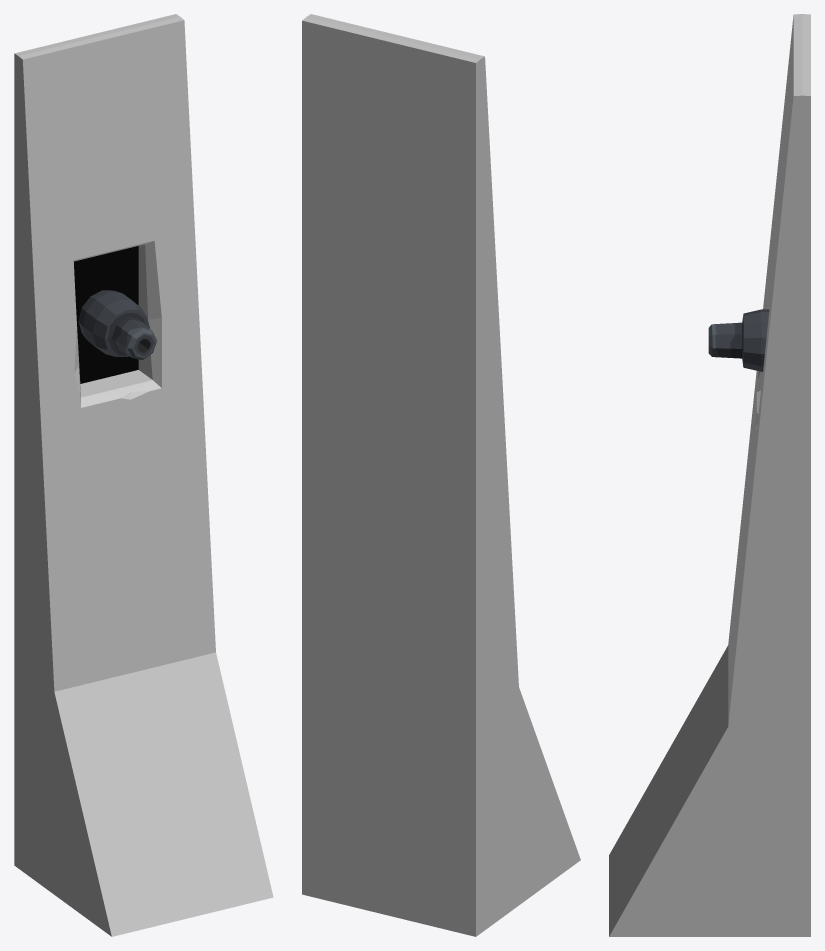
Rendered from SM_Bld_Wall_Fort_L_02_Alt_01.fbx.
3 renders of one model, left to right at view 1: azimuth 30°, elevation 25°; view 2: azimuth 150°, elevation 25°; view 3: azimuth 270°, elevation 25°, orthographic. The views are drawn at different scales.
Visible parts, largest first — view 1: SM_Bld_Wall_Fort_L_02_Alt_01, SM_Bld_Wall_Fort_L_02_Alt_01_Cannon; view 2: SM_Bld_Wall_Fort_L_02_Alt_01; view 3: SM_Bld_Wall_Fort_L_02_Alt_01, SM_Bld_Wall_Fort_L_02_Alt_01_Cannon.
Part boxes in pixels (x1,y1,x2,y2): SM_Bld_Wall_Fort_L_02_Alt_01: (14,14,273,936); SM_Bld_Wall_Fort_L_02_Alt_01_Cannon: (78,290,157,360); SM_Bld_Wall_Fort_L_02_Alt_01: (302,14,580,936); SM_Bld_Wall_Fort_L_02_Alt_01: (609,14,810,936); SM_Bld_Wall_Fort_L_02_Alt_01_Cannon: (708,309,769,371).
Bounding box in the file's own units: 500 × 2401 × 522.
